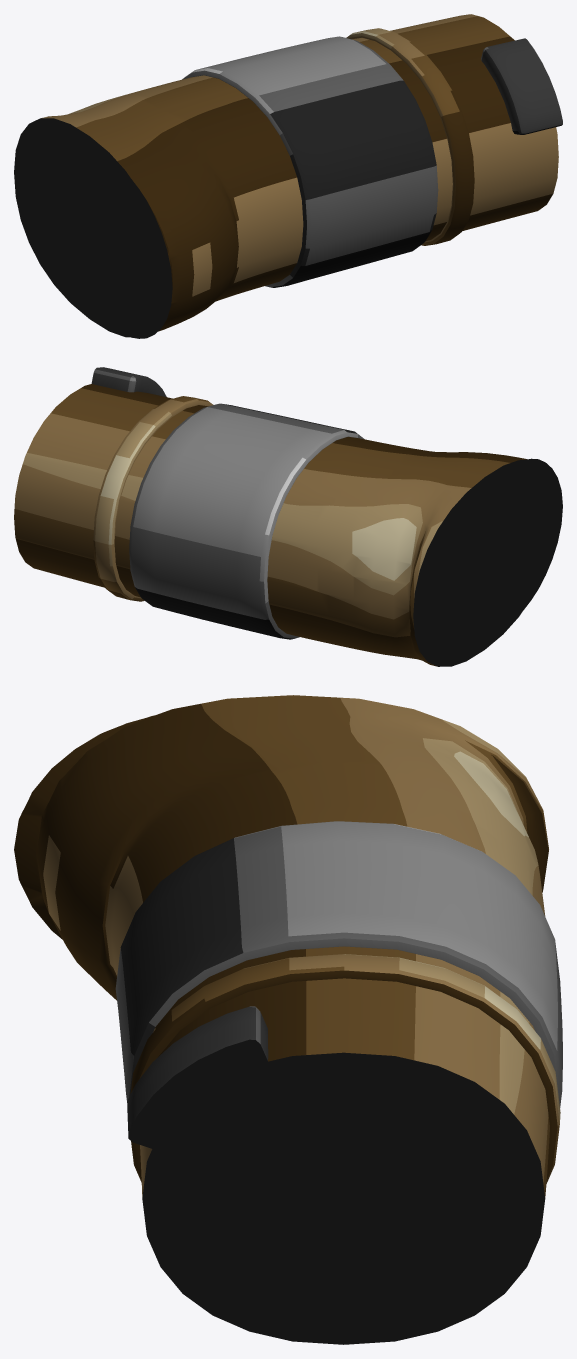
File: tusk_arm_a_157.glb
3 renders of one model, top to bottom at view 1: azimuth 30°, elevation 25°; view 2: azimuth 150°, elevation 25°; view 3: azimuth 270°, elevation 25°, orthographic. The views are drawn at different scales.
Parts seen in each view (by area): view 1: tusk_arm_a_157; view 2: tusk_arm_a_157; view 3: tusk_arm_a_157.
Part boxes in pixels (x1=…): tusk_arm_a_157: x1=14, y1=14, x2=562, y2=338; tusk_arm_a_157: x1=14, y1=367, x2=562, y2=666; tusk_arm_a_157: x1=14, y1=695, x2=562, y2=1344.
Size of the model in its own units: 24 by 10.46 by 15.95.
